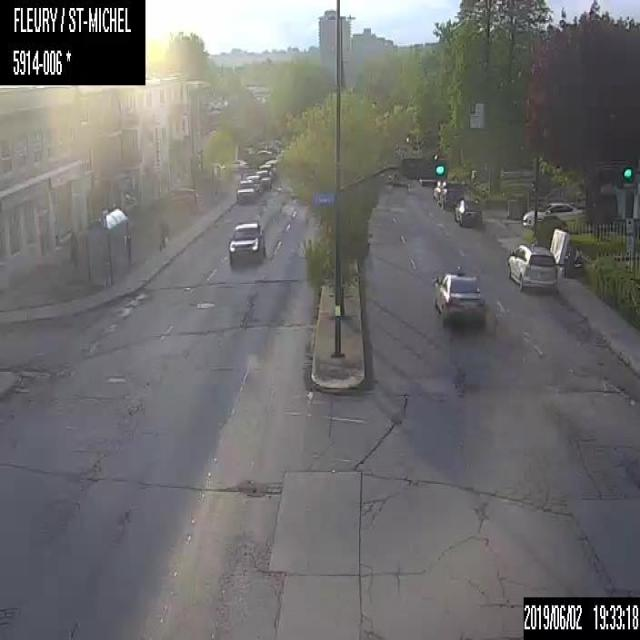pedestrian: (156, 216, 168, 251), (68, 228, 78, 267)
vehicle: (432, 266, 484, 322), (506, 240, 559, 289), (521, 198, 587, 229), (228, 220, 266, 267), (453, 198, 484, 226), (438, 180, 464, 210), (235, 179, 256, 204), (254, 168, 273, 189), (245, 173, 263, 195), (227, 156, 249, 170)
